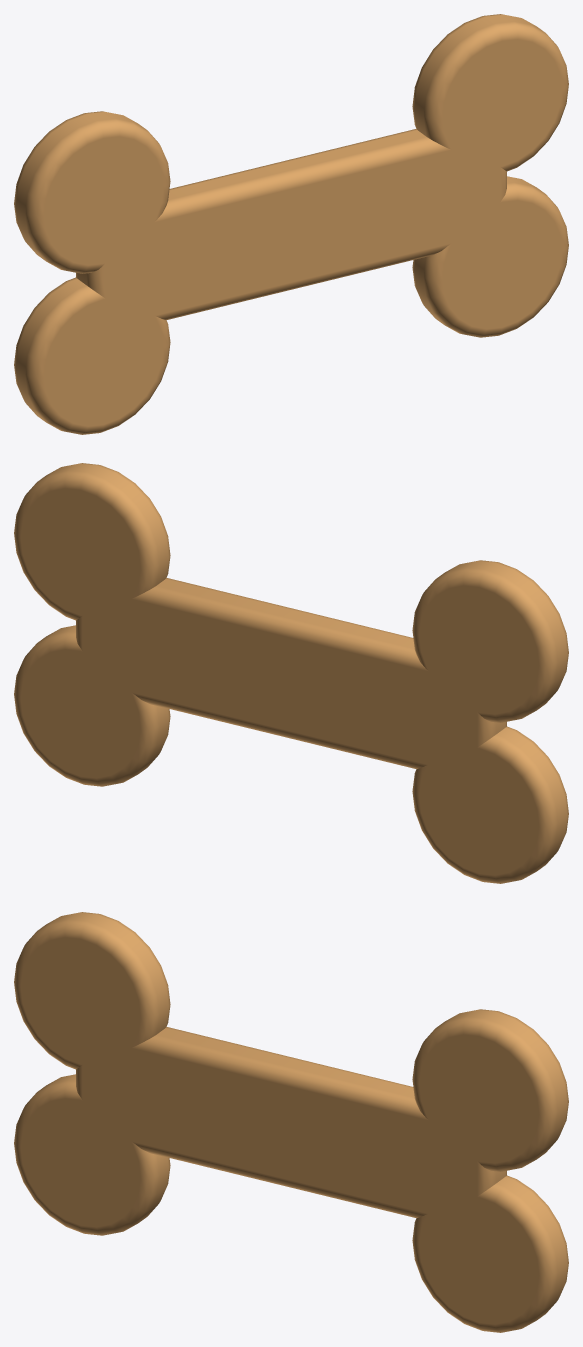
File: bone_doorplate.glb
3 renders of one model, top to bottom at view 1: azimuth 30°, elevation 25°; view 2: azimuth 150°, elevation 25°; view 3: azimuth 330°, elevation 25°, orthographic.
Visible parts, largest first — view 1: bone_doorplate_mesh; view 2: bone_doorplate_mesh; view 3: bone_doorplate_mesh.
Part boxes in pixels (<box>): bone_doorplate_mesh: <box>14,14,568,434</box>; bone_doorplate_mesh: <box>14,463,568,883</box>; bone_doorplate_mesh: <box>14,912,568,1332</box>.
Size of the model in its own units: 0.5442 by 0.2987 by 0.04.
